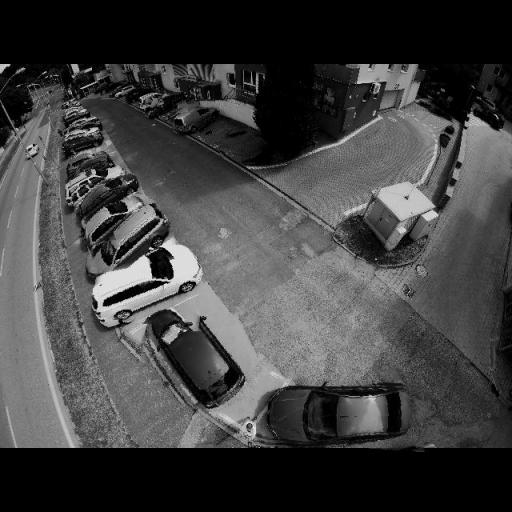busy: (136, 301, 262, 414), (256, 379, 428, 450), (93, 243, 206, 328), (88, 210, 176, 272), (83, 194, 160, 242), (70, 175, 144, 214), (170, 104, 222, 136), (67, 152, 117, 178), (143, 93, 188, 117), (62, 130, 103, 156), (473, 104, 505, 128), (64, 118, 101, 135)
free: (220, 137, 258, 161), (198, 119, 229, 140)
